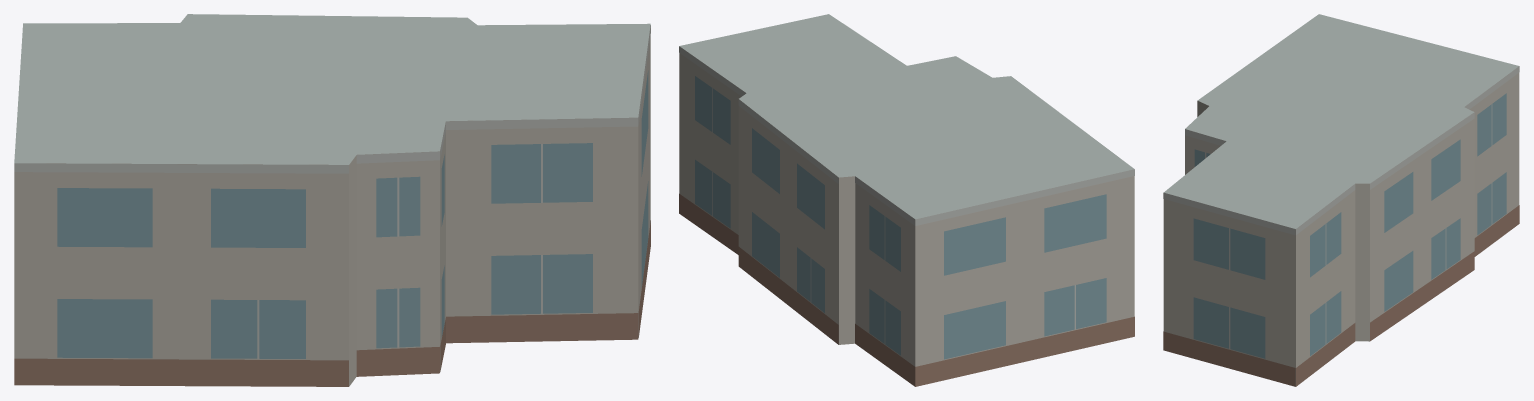
Rendered from survey-upis-32993010.glb.
The picture shows the model from 3 angles, left to right: view 1: azimuth 30°, elevation 25°; view 2: azimuth 150°, elevation 25°; view 3: azimuth 270°, elevation 25°; orthographic projection. The views are drawn at different scales.
Parts seen in each view (by area): view 1: survey-upis-32993010.tmp; view 2: survey-upis-32993010.tmp; view 3: survey-upis-32993010.tmp.
Boxes of the visible parts, x1=… form: survey-upis-32993010.tmp: x1=14, y1=14, x2=650, y2=386; survey-upis-32993010.tmp: x1=679, y1=14, x2=1134, y2=386; survey-upis-32993010.tmp: x1=1163, y1=14, x2=1519, y2=386.
Bounding box in the file's own units: 17.85 × 6.1 × 12.48.
